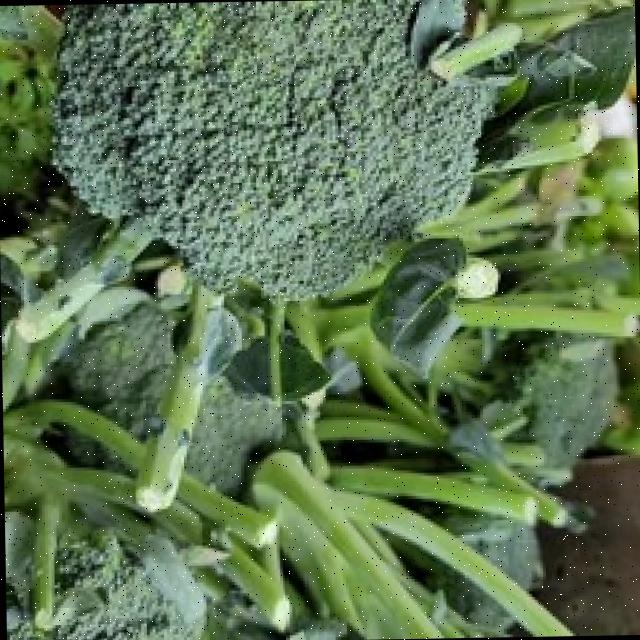Broccoli: (54, 0, 490, 296), (54, 0, 489, 296), (8, 534, 202, 640), (8, 534, 201, 640), (55, 307, 174, 438), (58, 307, 174, 438), (514, 335, 612, 466), (515, 337, 613, 464), (186, 377, 282, 494), (186, 377, 282, 493), (416, 556, 512, 631), (419, 556, 512, 631), (445, 515, 540, 588), (447, 515, 540, 588), (481, 0, 634, 41)
